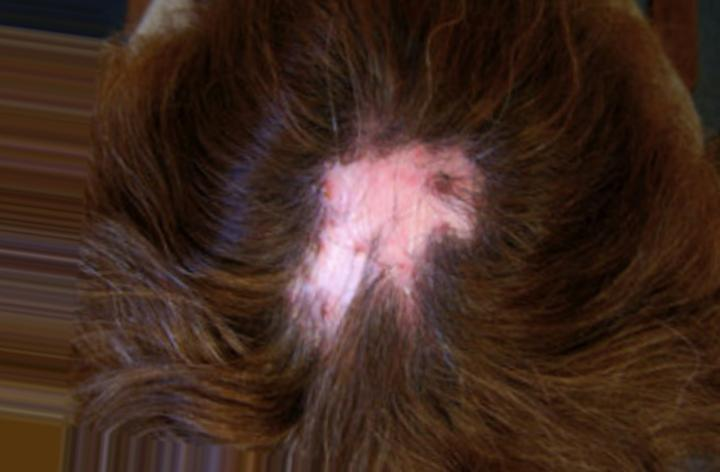Folliculitis: (266, 125, 475, 341)
